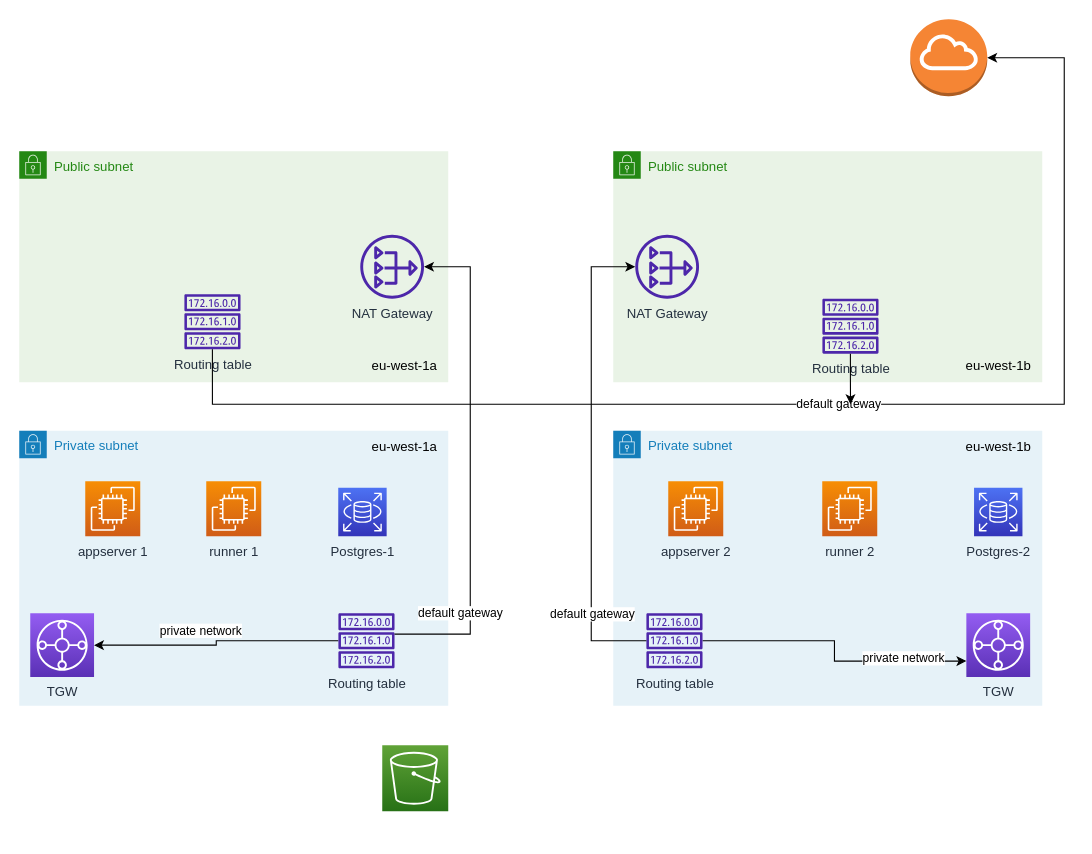
The diagram is 1092 pixels wide and 854 high, and some of its shapes have lost their labels. Here are the shapes that lost their labels. From the top down, the centre of each, then its label:
At point 948,57: "Internet Gateway".
At point 414,777: "S3 Files".
